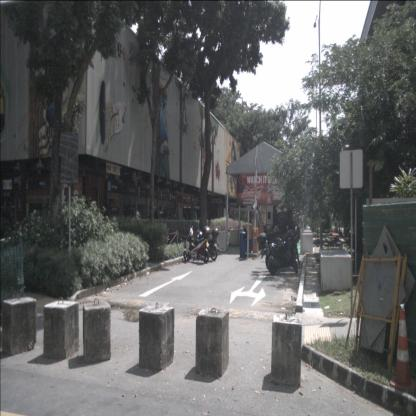cone: (390, 308, 416, 395)
